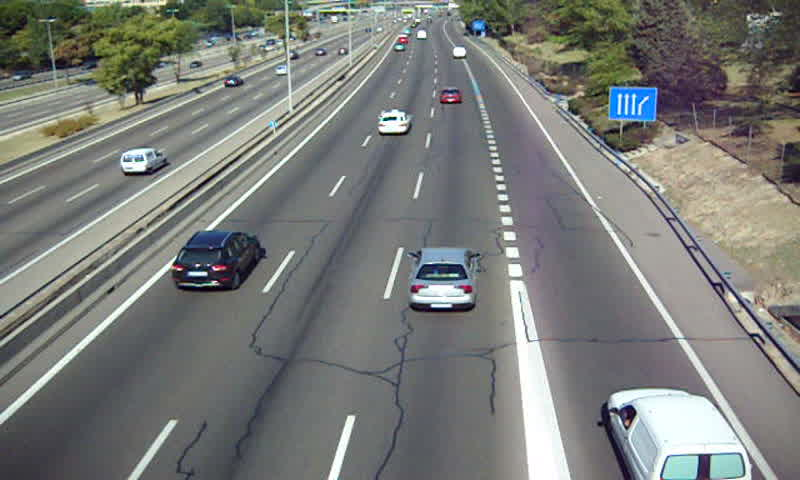car: (172, 231, 261, 292), (410, 249, 477, 309), (377, 109, 412, 136), (440, 87, 461, 104)
van: (605, 389, 753, 480)
